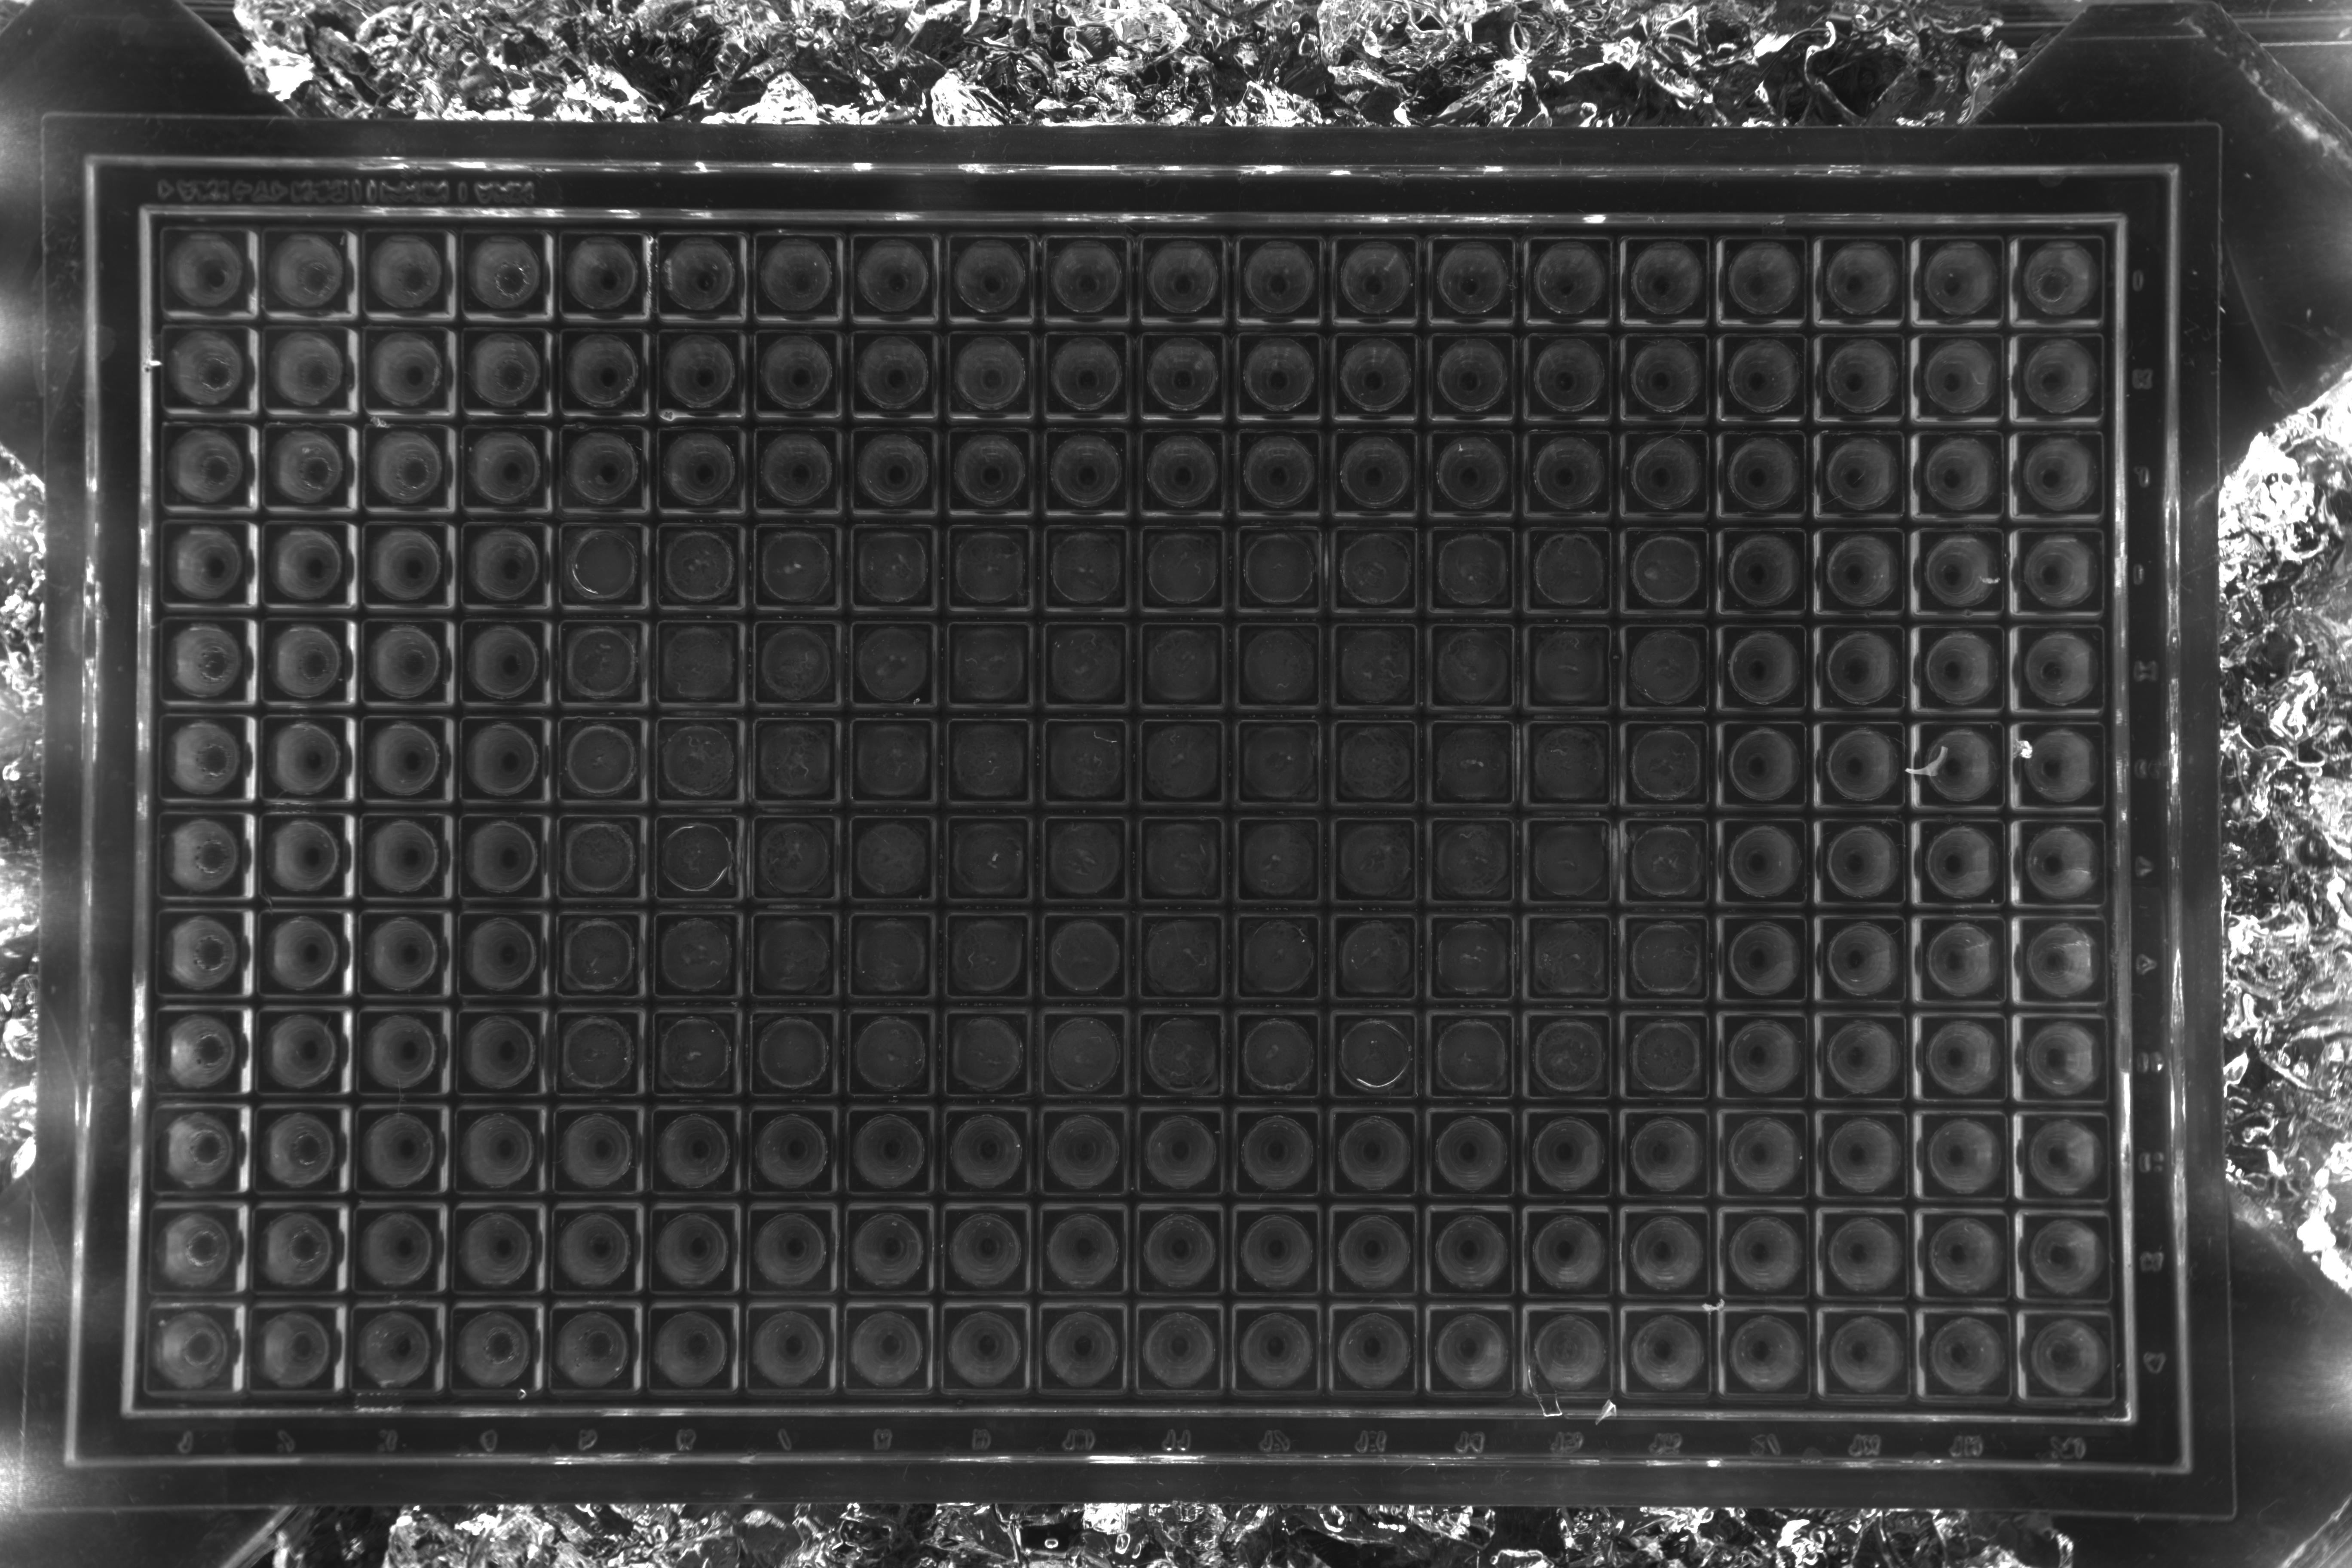WM_well: (595, 460, 684, 548), (789, 268, 878, 355), (1864, 1249, 1953, 1337), (205, 262, 292, 350), (401, 458, 488, 546), (595, 653, 682, 740), (693, 654, 780, 742), (882, 1337, 969, 1424), (884, 1045, 971, 1132), (983, 269, 1071, 357), (1078, 1337, 1165, 1424), (1080, 464, 1167, 551), (1176, 1339, 1263, 1426), (1272, 464, 1360, 551), (1370, 850, 1458, 938), (1468, 1144, 1556, 1232), (1564, 656, 1652, 744), (1566, 1048, 1654, 1136), (1568, 1146, 1655, 1234), (1760, 560, 1848, 647), (1766, 1248, 1853, 1335), (1860, 756, 1948, 843)
